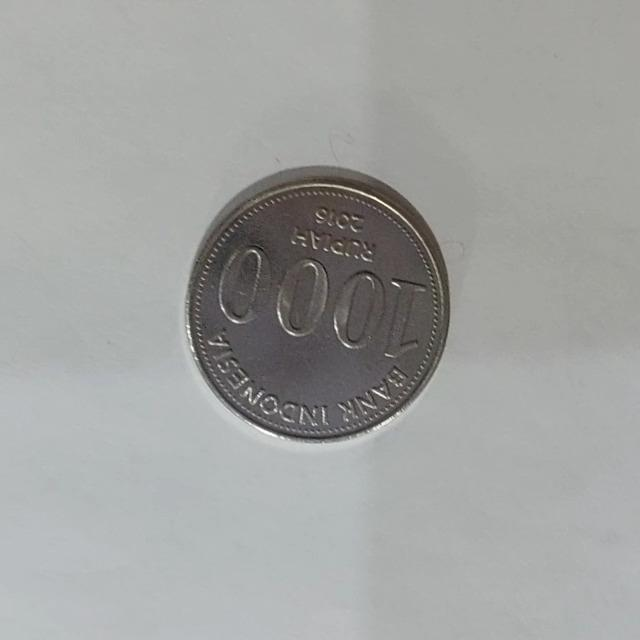Rp100: (182, 164, 452, 443)
